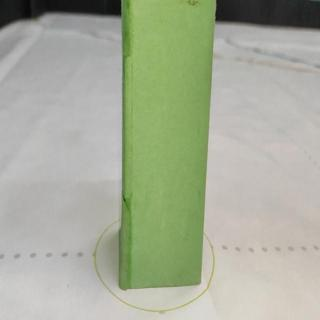greenbox: (121, 0, 214, 287)
